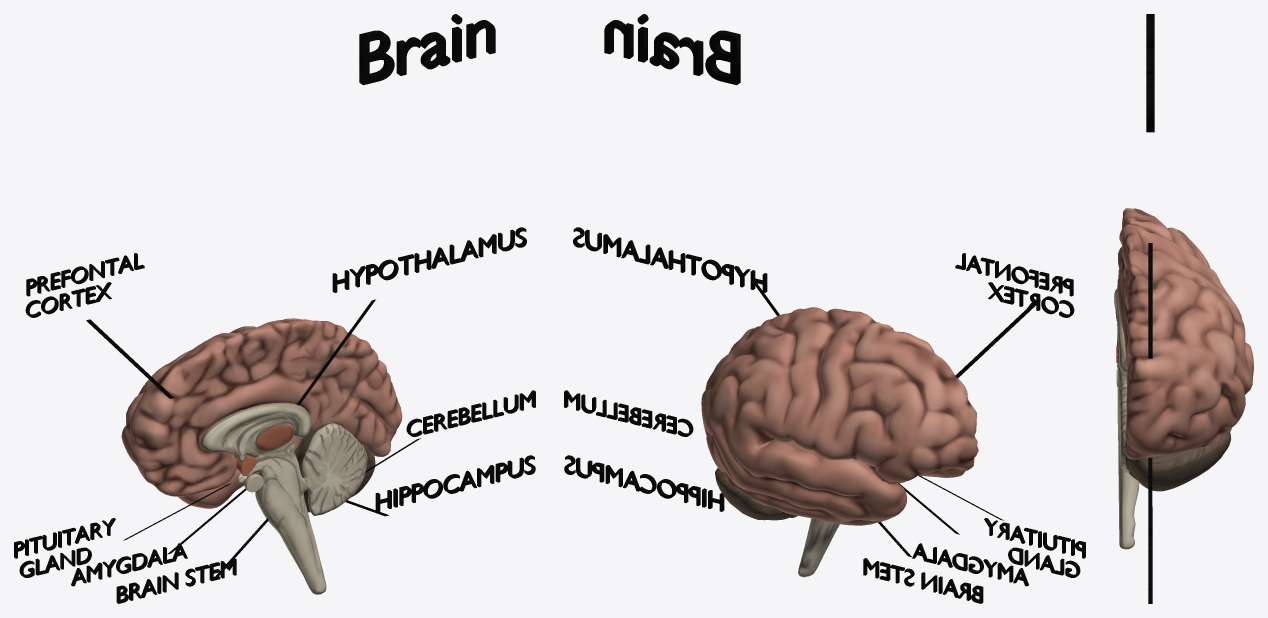
File: brain.fbx
3 renders of one model, left to right at view 1: azimuth 30°, elevation 25°; view 2: azimuth 150°, elevation 25°; view 3: azimuth 270°, elevation 25°, orthographic. The views are drawn at different scales.
Parts seen in each view (by area): view 1: node_id30, Text, WRITING, WRITING.006, WRITING.002, Plane, WRITING.005, WRITING.001, WRITING.003, WRITING.004; view 2: node_id30, Text, WRITING, WRITING.006, WRITING.002, WRITING.005, WRITING.001, WRITING.003, WRITING.004, Plane; view 3: node_id30, Text, WRITING, WRITING.001, WRITING.002.
Part boxes in pixels (x1,y1,x2,y2): node_id30: (121,318,402,594); Text: (359,14,495,85); WRITING: (332,227,526,292); WRITING.006: (25,253,144,317); WRITING.002: (375,455,535,511); Plane: (86,299,420,576); WRITING.005: (14,518,115,577); WRITING.001: (406,390,535,436); WRITING.003: (116,558,236,603); WRITING.004: (71,543,187,586); node_id30: (701,307,978,577); Text: (604,14,740,85); WRITING: (573,227,767,292); WRITING.006: (955,253,1074,317); WRITING.002: (564,455,724,511); WRITING.005: (984,518,1085,577); WRITING.001: (564,390,693,436); WRITING.003: (863,558,983,603); WRITING.004: (912,543,1028,586); Plane: (755,283,1040,557); node_id30: (1114,208,1253,549); Text: (1146,14,1154,132); WRITING: (1148,243,1152,358); WRITING.001: (1148,457,1152,536); WRITING.002: (1148,507,1152,603).
Bounding box in the file's own units: 641 × 632 × 143.
